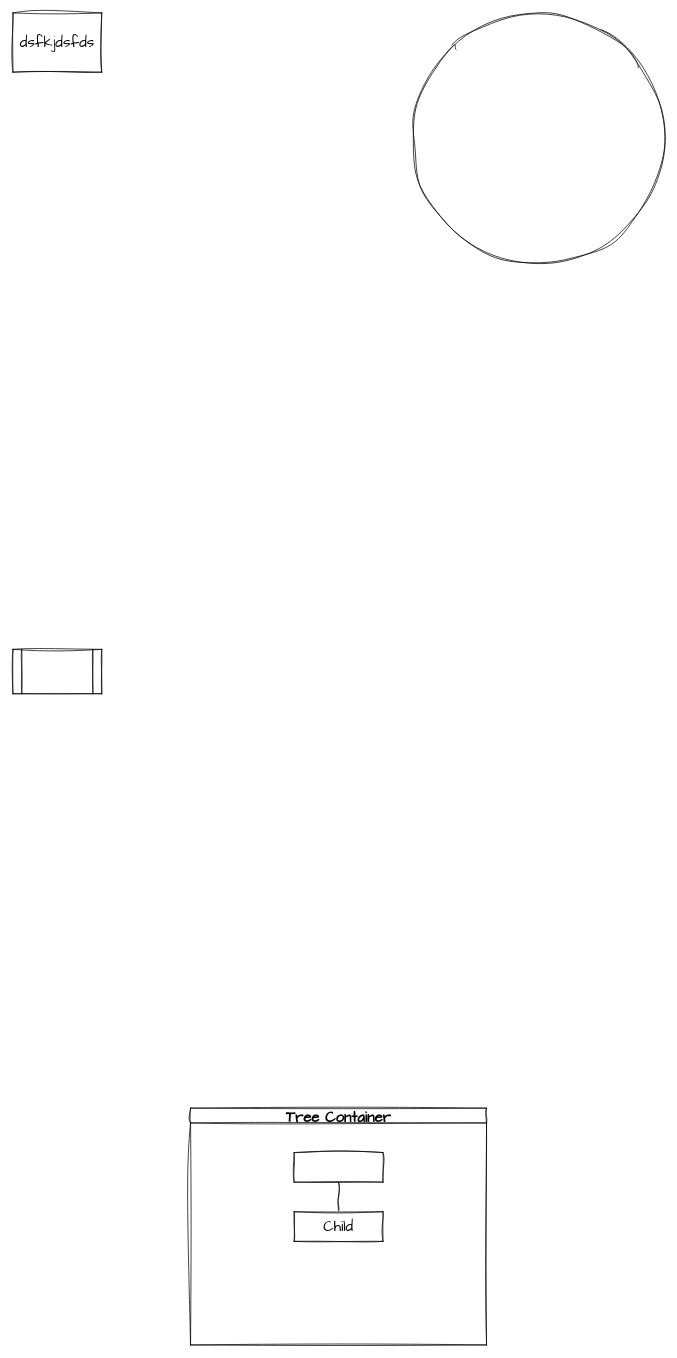
Some shapes in this 677 by 1358 pixel diagram are drawn without their labels. The shapes that lost their labels are listed below. From the top down, each one's centre as x and y in pixels, then its label:
(x=538, y=138): dsfgdg
(x=338, y=1167): Parent
